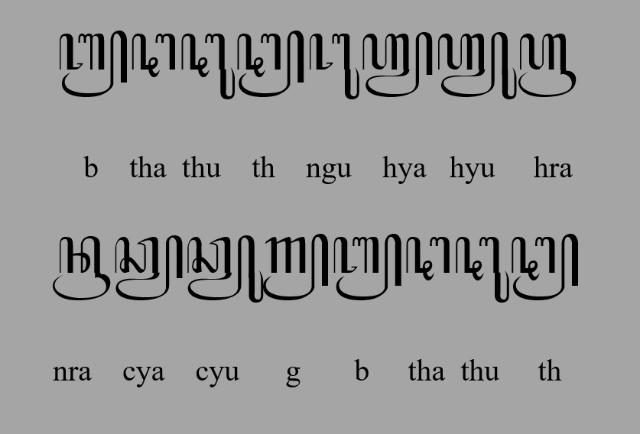-b: (332, 234, 402, 302), (59, 30, 128, 98)
-g: (262, 233, 330, 301)
-th: (511, 232, 579, 301), (238, 29, 304, 97)
cy: (114, 234, 184, 302)
cyu: (186, 235, 264, 304)
hr: (518, 32, 576, 98)
hy: (362, 32, 432, 98)
hyu: (438, 30, 518, 99)
ngu: (310, 32, 360, 101)
nr: (54, 236, 110, 300)
th: (405, 237, 451, 282), (132, 33, 176, 78)
thu: (456, 235, 510, 303), (181, 33, 235, 100)
